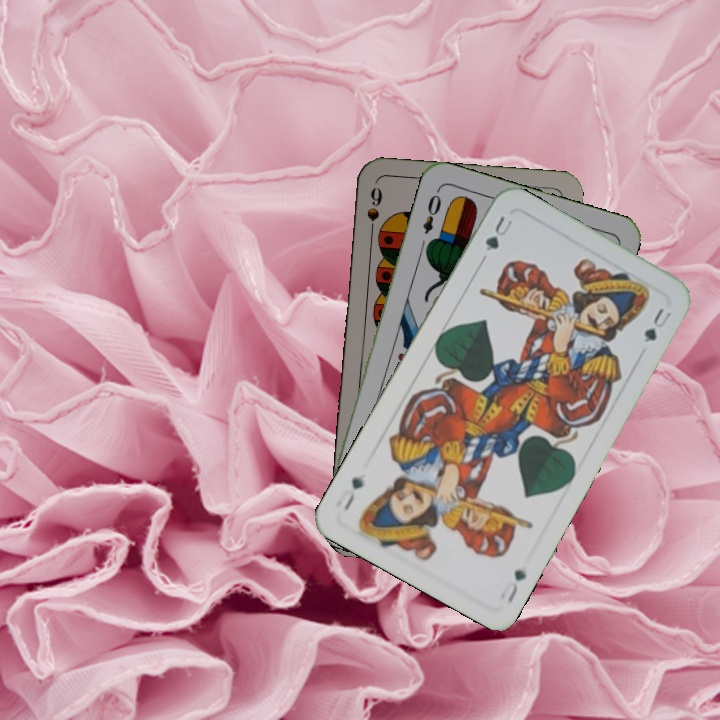EO: (418, 185, 444, 237)
GU: (481, 211, 515, 255), (496, 565, 529, 606)
S9: (363, 184, 385, 241)
